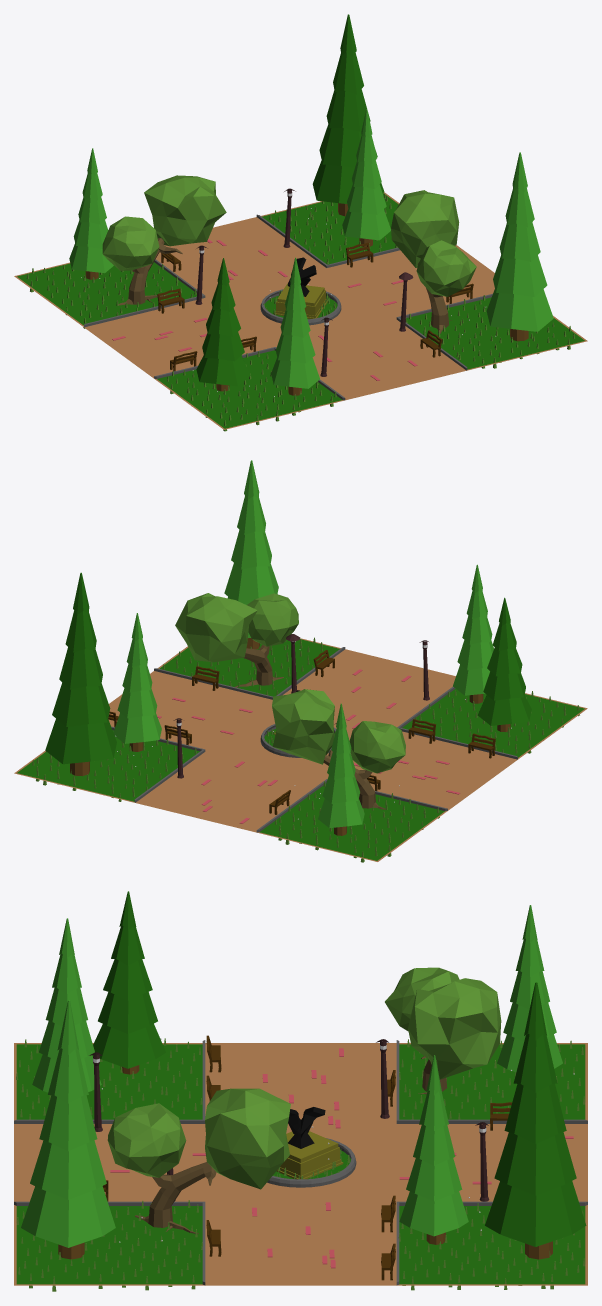
File: parque.fbx
The picture shows the model from 3 angles, top to bottom: view 1: azimuth 30°, elevation 25°; view 2: azimuth 150°, elevation 25°; view 3: azimuth 270°, elevation 25°; orthographic projection. The views are drawn at different scales.
Visible parts, largest first — view 1: camino, Grama, Arboltipo2.001, Arboltipo2, Arbol.005, Arbol.003, Arbol, Arbol.001, Arbol.008, Arbol.002, camino.001, Base Monumt.002 (+1 smaller); view 2: camino, Grama, Arbol.003, Arboltipo2, Arboltipo2.001, Arbol.005, Arbol, Arbol.008, Arbol.002, Arbol.001, camino.001, LadrilloPiso.017; view 3: camino, Grama, Arbol.003, Arboltipo2, Arbol.005, Arboltipo2.001, Arbol, Arbol.008, Arbol.001, Arbol.002, camino.001, Base Monumt.002 (+5 smaller).
Boxes of the visible parts, <box> form: camino: <box>14,192,587,429</box>; Grama: <box>17,193,584,428</box>; Arboltipo2.001: <box>102,175,226,305</box>; Arboltipo2: <box>391,190,476,333</box>; Arbol.005: <box>486,152,553,331</box>; Arbol.003: <box>312,14,384,216</box>; Arbol: <box>196,258,250,391</box>; Arbol.001: <box>271,257,319,395</box>; Arbol.008: <box>342,109,390,246</box>; Arbol.002: <box>69,148,113,279</box>; camino.001: <box>84,214,492,400</box>; Base Monumt.002: <box>274,283,327,318</box>; camino: <box>14,638,587,861</box>; Grama: <box>17,639,584,860</box>; Arbol.003: <box>45,572,116,776</box>; Arboltipo2: <box>175,593,298,687</box>; Arboltipo2.001: <box>272,689,405,809</box>; Arbol.005: <box>224,460,278,637</box>; Arbol: <box>477,597,531,732</box>; Arbol.008: <box>113,613,161,751</box>; Arbol.002: <box>318,703,364,835</box>; Arbol.001: <box>453,564,493,703</box>; camino.001: <box>111,647,517,832</box>; LadrilloPiso.017: <box>157,669,460,823</box>; camino: <box>14,1043,587,1285</box>; Grama: <box>16,1044,585,1284</box>; Arbol.003: <box>485,982,586,1259</box>; Arboltipo2: <box>107,1088,290,1233</box>; Arbol.005: <box>21,1000,115,1247</box>; Arboltipo2.001: <box>385,967,501,1094</box>; Arbol: <box>93,891,165,1074</box>; Arbol.008: <box>399,1055,468,1244</box>; Arbol.001: <box>32,918,101,1092</box>; Arbol.002: <box>497,905,562,1072</box>; camino.001: <box>14,1040,587,1285</box>; Base Monumt.002: <box>276,1131,343,1179</box>.
Bounding box in the file's own units: 5967 × 3385 × 5967.
